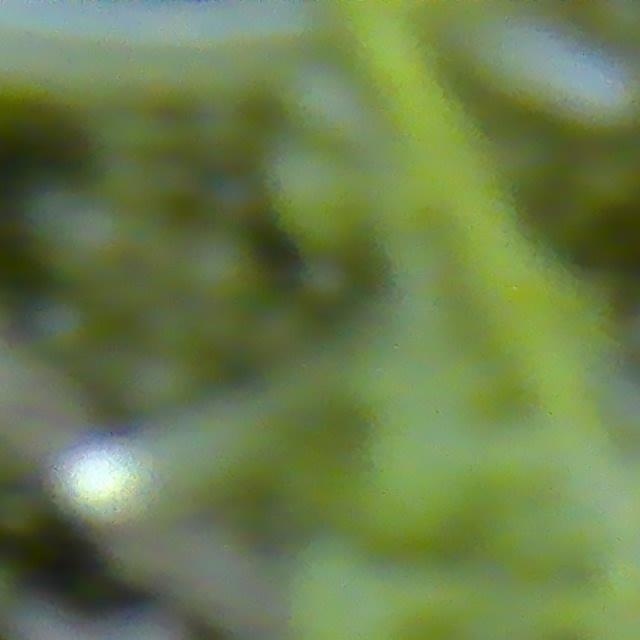SeaGrape: (261, 139, 372, 255), (278, 60, 369, 150), (177, 225, 262, 310), (27, 293, 100, 365), (587, 0, 640, 48)
